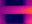Hotspot: (28, 6, 31, 14)
